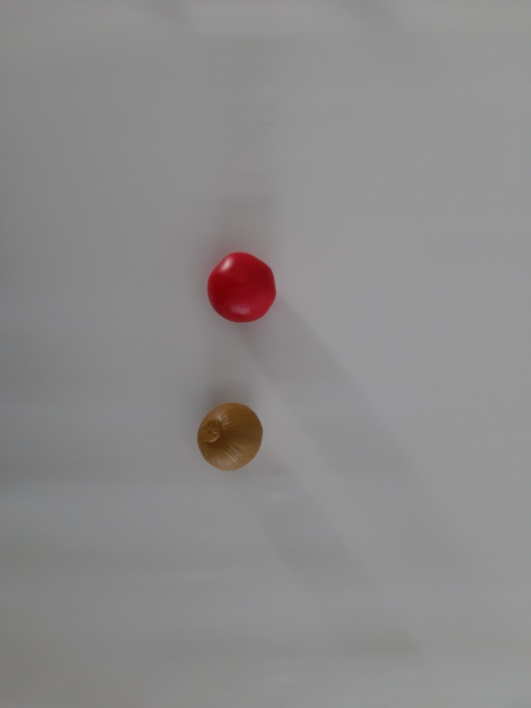onion: (185, 396, 280, 487)
tomato: (196, 244, 289, 332)
